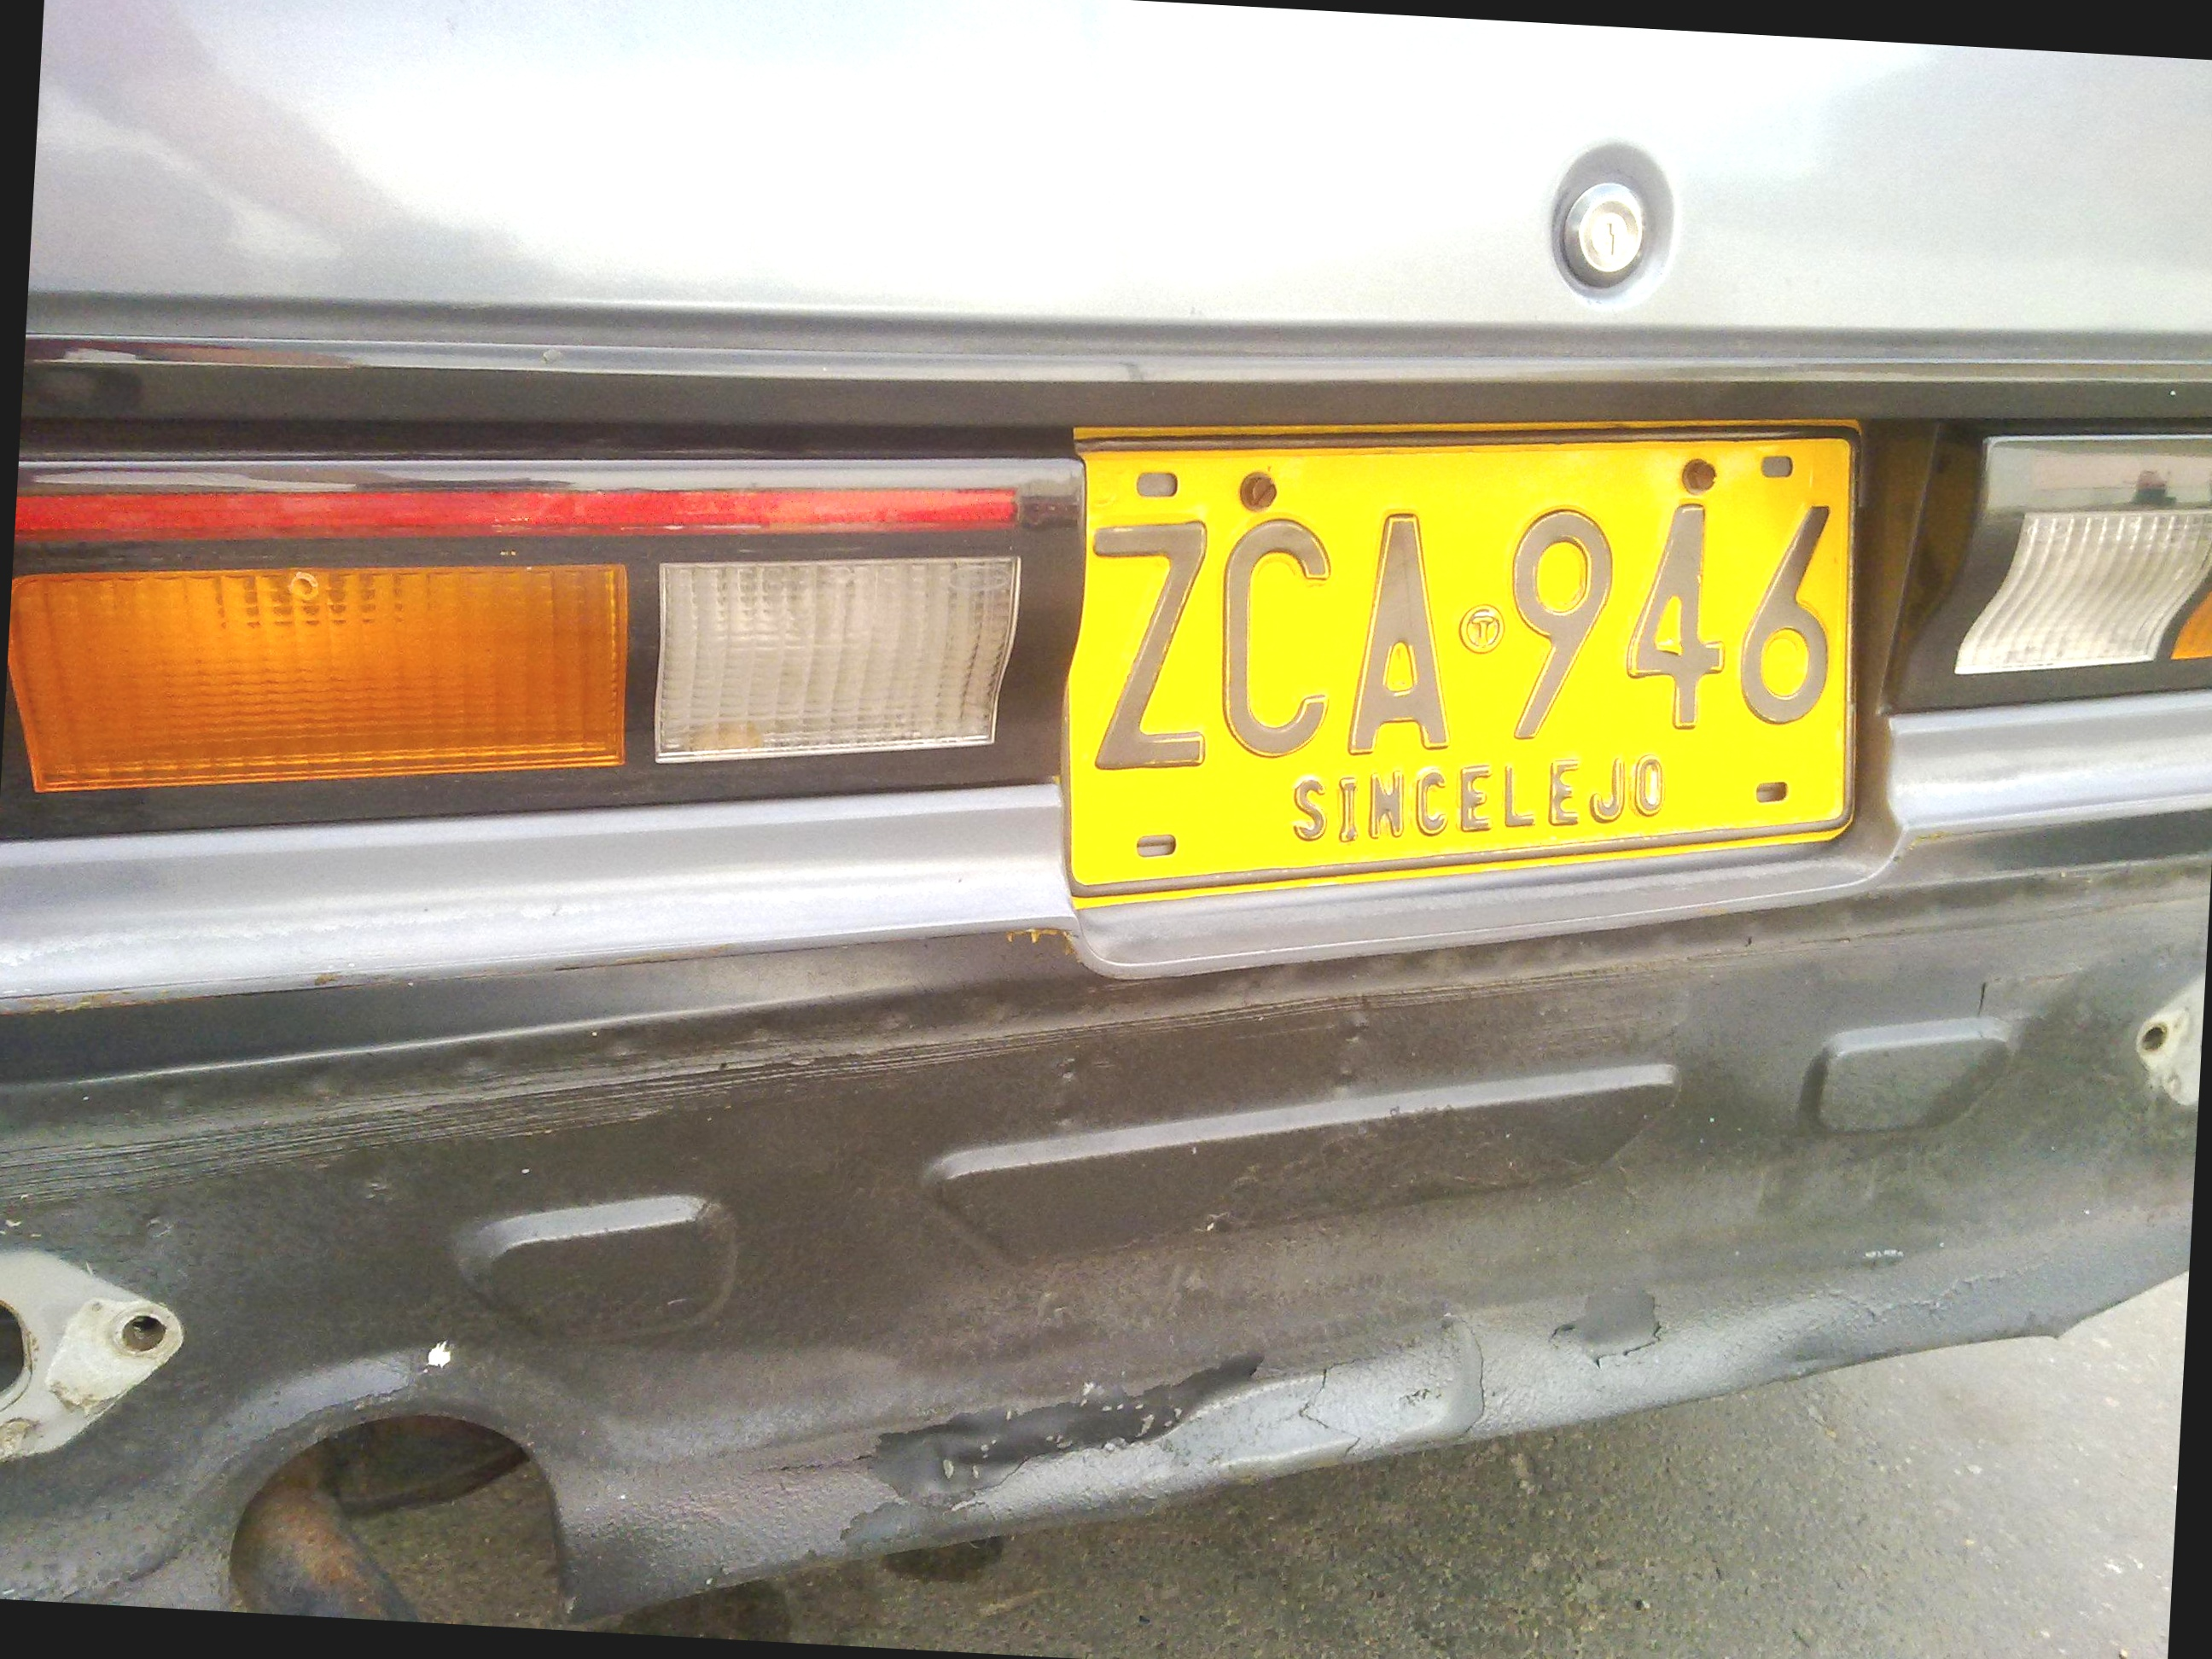placas: (1011, 370, 1891, 969)
